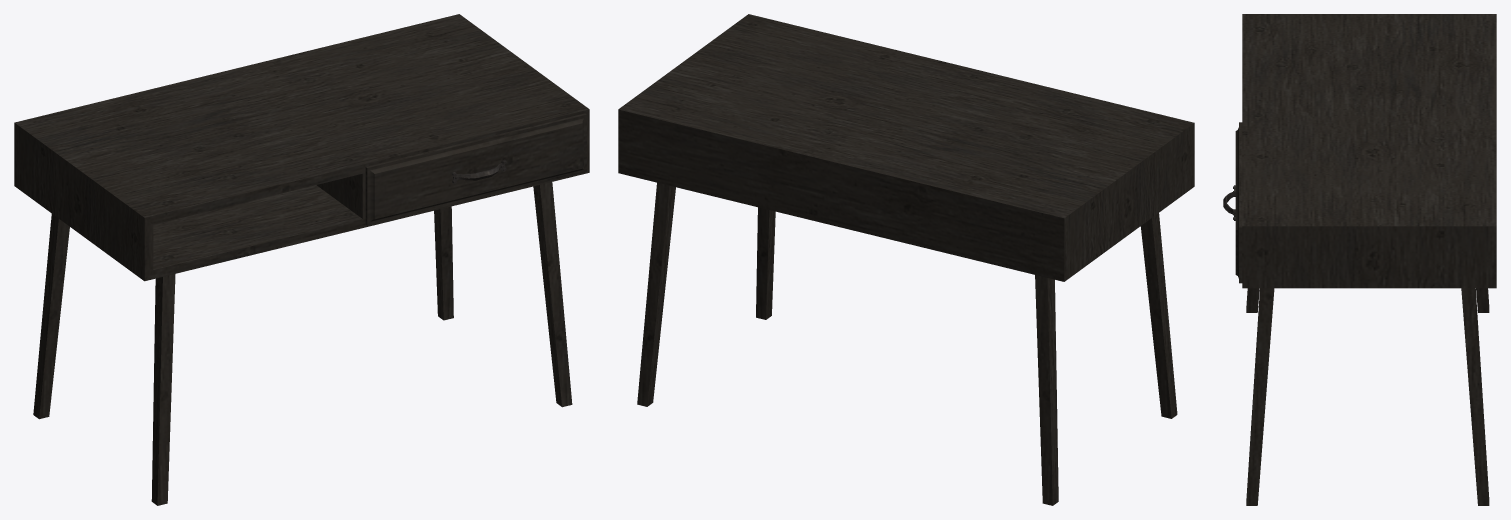
The model's file is tv_table_4.fbx.
The picture shows the model from 3 angles, left to right: view 1: azimuth 30°, elevation 25°; view 2: azimuth 150°, elevation 25°; view 3: azimuth 270°, elevation 25°; orthographic projection. The views are drawn at different scales.
Parts seen in each view (by area): view 1: tv_table_4, tv_table_4_drawer; view 2: tv_table_4; view 3: tv_table_4, tv_table_4_drawer.
Boxes of the visible parts, left/top/right/bottom form: tv_table_4: left=14, top=14, right=589, bottom=505; tv_table_4_drawer: left=365, top=113, right=586, bottom=225; tv_table_4: left=618, top=14, right=1194, bottom=505; tv_table_4: left=1242, top=14, right=1496, bottom=505; tv_table_4_drawer: left=1223, top=122, right=1242, bottom=283.
Bounding box in the file's own units: 1.54 × 0.97 × 0.8383.
2 materials, 2 textured.
